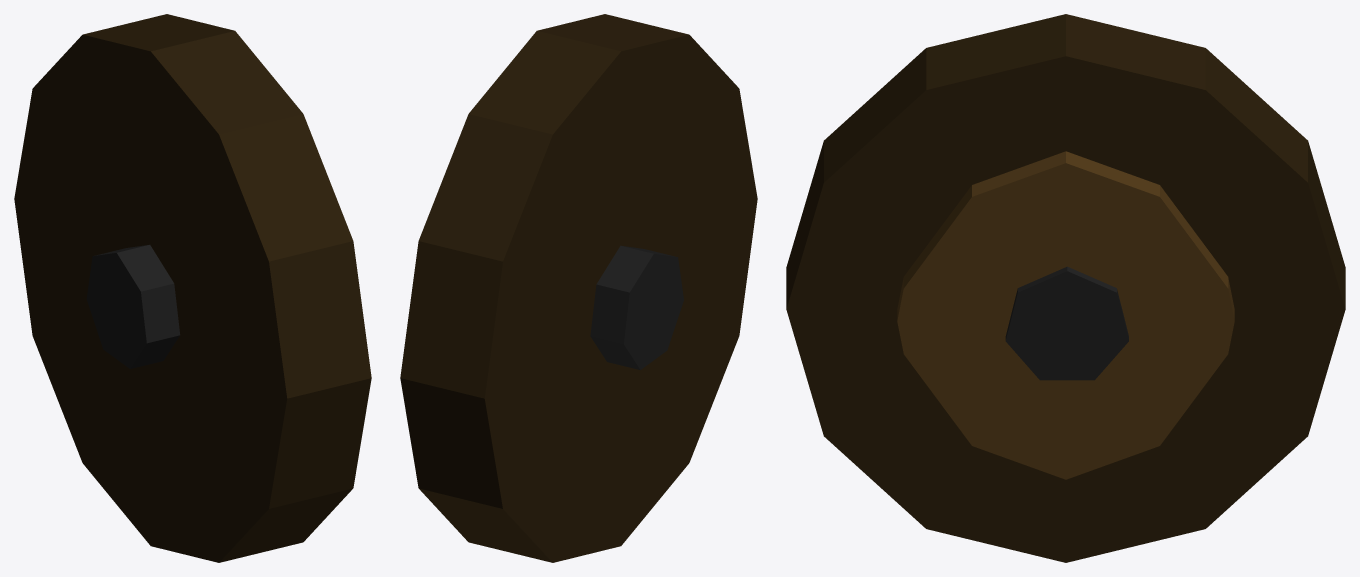
File: winter-catapult-wheel.glb
3 renders of one model, left to right at view 1: azimuth 30°, elevation 25°; view 2: azimuth 150°, elevation 25°; view 3: azimuth 270°, elevation 25°, orthographic. The views are drawn at different scales.
Parts seen in each view (by area): view 1: WinterCatapultWheel; view 2: WinterCatapultWheel; view 3: WinterCatapultWheel.
Boxes of the visible parts, x1,y1,x2,y2 form: WinterCatapultWheel: (14, 14, 371, 562); WinterCatapultWheel: (400, 14, 757, 562); WinterCatapultWheel: (786, 14, 1345, 562).
Size of the model in its own units: 26.66 by 83.6 by 83.6.
Materials: 1 (1 with a texture image).
